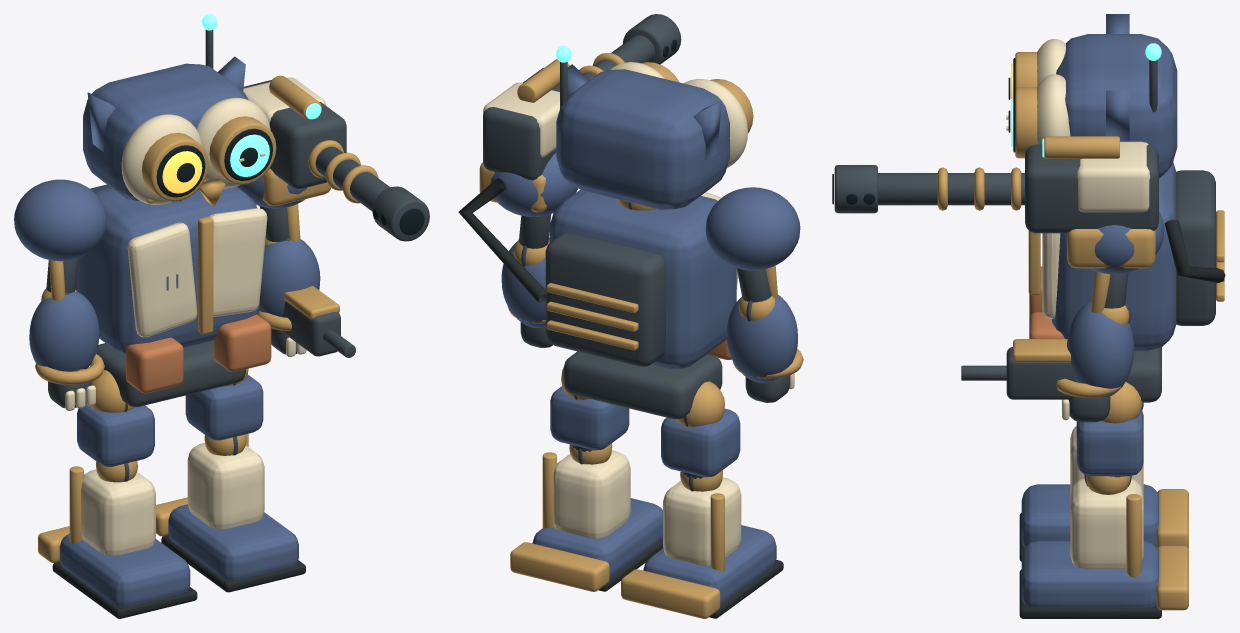
Rendered from owl_ranger.t3.glb.
The picture shows the model from 3 angles, left to right: view 1: azimuth 30°, elevation 25°; view 2: azimuth 150°, elevation 25°; view 3: azimuth 270°, elevation 25°; orthographic projection. The views are drawn at different scales.
Parts seen in each view (by area): view 1: slot_torso.002__clay_warm_ivory__clay, slot_torso.002__clay_midnight_indigo__clay, slot_legL.002__clay_midnight_indigo__clay, slot_legR.002__clay_midnight_indigo__clay, slot_head.002__clay_midnight_indigo__clay, weapon_shoulder__forged_bluelead_steel__protected, slot_armL.002__clay_midnight_indigo__clay, slot_legR.002__clay_warm_ivory__clay, slot_legL.002__clay_warm_ivory__clay, slot_torso.002__burnished_copper__protected, slot_head.002__clay_warm_ivory__clay, armL_elbow.002__clay_midnight_indigo__clay (+23 smaller); view 2: slot_head.002__clay_midnight_indigo__clay, slot_torso.002__forged_bluelead_steel__protected, slot_torso.002__clay_midnight_indigo__clay, slot_legL.002__clay_midnight_indigo__clay, slot_legR.002__clay_midnight_indigo__clay, weapon_shoulder__forged_bluelead_steel__protected, slot_armL.002__clay_midnight_indigo__clay, slot_legL.002__worn_warm_brass__protected, slot_legR.002__clay_warm_ivory__clay, slot_legR.002__worn_warm_brass__protected, slot_legL.002__clay_warm_ivory__clay, armL_elbow.002__clay_midnight_indigo__clay (+17 smaller); view 3: weapon_shoulder__forged_bluelead_steel__protected, slot_legR.002__clay_midnight_indigo__clay, slot_head.002__clay_midnight_indigo__clay, slot_torso.002__clay_midnight_indigo__clay, slot_torso.002__forged_bluelead_steel__protected, weapon_shoulder__worn_warm_brass__protected, slot_legR.002__worn_warm_brass__protected, slot_legR.002__clay_warm_ivory__clay, armR_elbow.002__clay_midnight_indigo__clay, weapon_shoulder__clay_warm_ivory__protected, slot_legL.002__clay_midnight_indigo__clay, weapon_right.002__forged_bluelead_steel__protected (+16 smaller).
Part boxes in pixels (left/top/right/bottom): slot_torso.002__clay_warm_ivory__clay: left=127, top=208, right=267, bottom=337; slot_torso.002__clay_midnight_indigo__clay: left=76, top=186, right=259, bottom=356; slot_legL.002__clay_midnight_indigo__clay: left=59, top=404, right=190, bottom=606; slot_legR.002__clay_midnight_indigo__clay: left=168, top=374, right=298, bottom=580; slot_head.002__clay_midnight_indigo__clay: left=83, top=63, right=248, bottom=200; weapon_shoulder__forged_bluelead_steel__protected: left=243, top=80, right=429, bottom=241; slot_armL.002__clay_midnight_indigo__clay: left=14, top=179, right=106, bottom=261; slot_legR.002__clay_warm_ivory__clay: left=187, top=443, right=264, bottom=529; slot_legL.002__clay_warm_ivory__clay: left=81, top=469, right=155, bottom=555; slot_torso.002__burnished_copper__protected: left=126, top=314, right=271, bottom=393; slot_head.002__clay_warm_ivory__clay: left=121, top=97, right=270, bottom=204; armL_elbow.002__clay_midnight_indigo__clay: left=29, top=291, right=99, bottom=371; slot_head.002__clay_midnight_indigo__clay: left=556, top=69, right=729, bottom=209; slot_torso.002__forged_bluelead_steel__protected: left=545, top=202, right=722, bottom=419; slot_torso.002__clay_midnight_indigo__clay: left=549, top=189, right=736, bottom=369; slot_legL.002__clay_midnight_indigo__clay: left=643, top=408, right=776, bottom=603; slot_legR.002__clay_midnight_indigo__clay: left=532, top=386, right=662, bottom=576; weapon_shoulder__forged_bluelead_steel__protected: left=483, top=14, right=681, bottom=180; slot_armL.002__clay_midnight_indigo__clay: left=705, top=187, right=800, bottom=270; slot_legL.002__worn_warm_brass__protected: left=621, top=381, right=724, bottom=618; slot_legR.002__clay_warm_ivory__clay: left=553, top=450, right=630, bottom=538; slot_legR.002__worn_warm_brass__protected: left=510, top=367, right=612, bottom=591; slot_legL.002__clay_warm_ivory__clay: left=663, top=477, right=741, bottom=565; armL_elbow.002__clay_midnight_indigo__clay: left=726, top=295, right=797, bottom=382; weapon_shoulder__forged_bluelead_steel__protected: left=834, top=144, right=1158, bottom=233; slot_legR.002__clay_midnight_indigo__clay: left=1021, top=409, right=1158, bottom=607; slot_head.002__clay_midnight_indigo__clay: left=1056, top=34, right=1177, bottom=178; slot_torso.002__clay_midnight_indigo__clay: left=1052, top=162, right=1176, bottom=351; slot_torso.002__forged_bluelead_steel__protected: left=1125, top=170, right=1215, bottom=402; weapon_shoulder__worn_warm_brass__protected: left=937, top=136, right=1155, bottom=268; slot_legR.002__worn_warm_brass__protected: left=1086, top=382, right=1188, bottom=610; slot_legR.002__clay_warm_ivory__clay: left=1070, top=478, right=1143, bottom=568; armR_elbow.002__clay_midnight_indigo__clay: left=1067, top=301, right=1134, bottom=397; weapon_shoulder__clay_warm_ivory__protected: left=1077, top=141, right=1150, bottom=212; slot_legL.002__clay_midnight_indigo__clay: left=1021, top=402, right=1158, bottom=547; weapon_right.002__forged_bluelead_steel__protected: left=961, top=347, right=1076, bottom=399.
Size of the model in its own units: 1.69 by 2.85 by 1.82.
